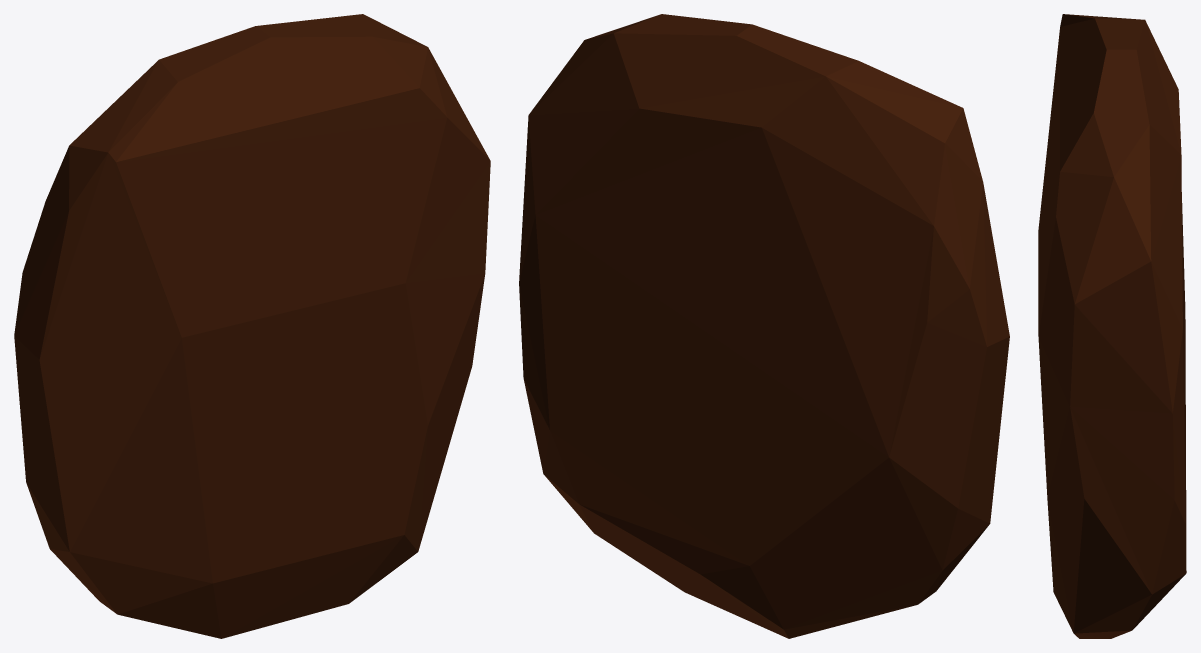
Rendered from lvlDecor_rock_002.fbx.
3 renders of one model, left to right at view 1: azimuth 30°, elevation 25°; view 2: azimuth 150°, elevation 25°; view 3: azimuth 270°, elevation 25°, orthographic. The views are drawn at different scales.
Parts seen in each view (by area): view 1: lvlDecor_rock_002; view 2: lvlDecor_rock_002; view 3: lvlDecor_rock_002.
Part boxes in pixels (x1,y1,x2,y2): lvlDecor_rock_002: (14,14,490,638); lvlDecor_rock_002: (519,14,1009,638); lvlDecor_rock_002: (1038,14,1186,638).
Bounding box in the file's own units: 63.58 × 78.45 × 18.66.
